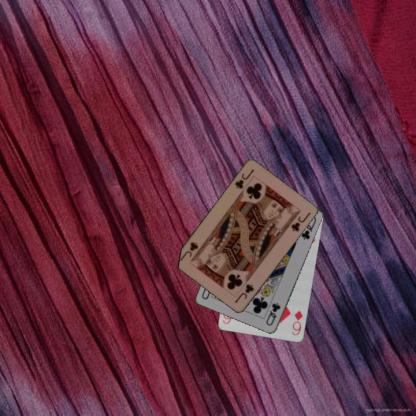6d: (289, 308, 304, 337)
Jc: (233, 167, 256, 190), (233, 282, 256, 304)
Qc: (263, 300, 282, 327)
